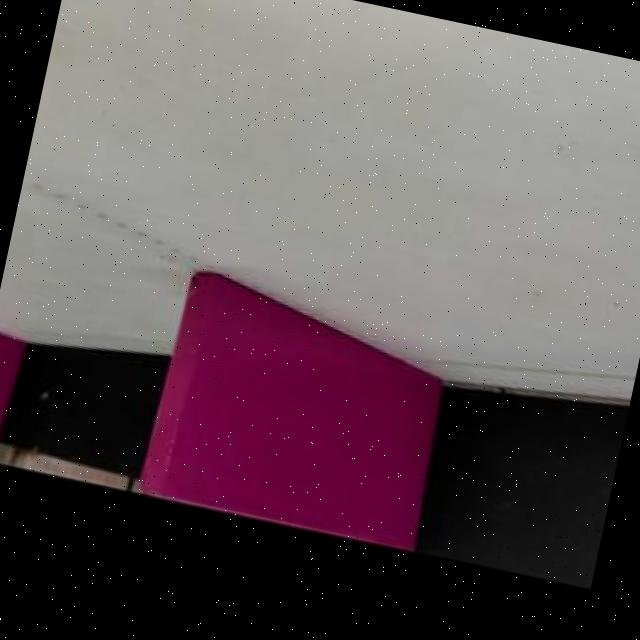xparking: (142, 288, 453, 546), (0, 335, 16, 446)
